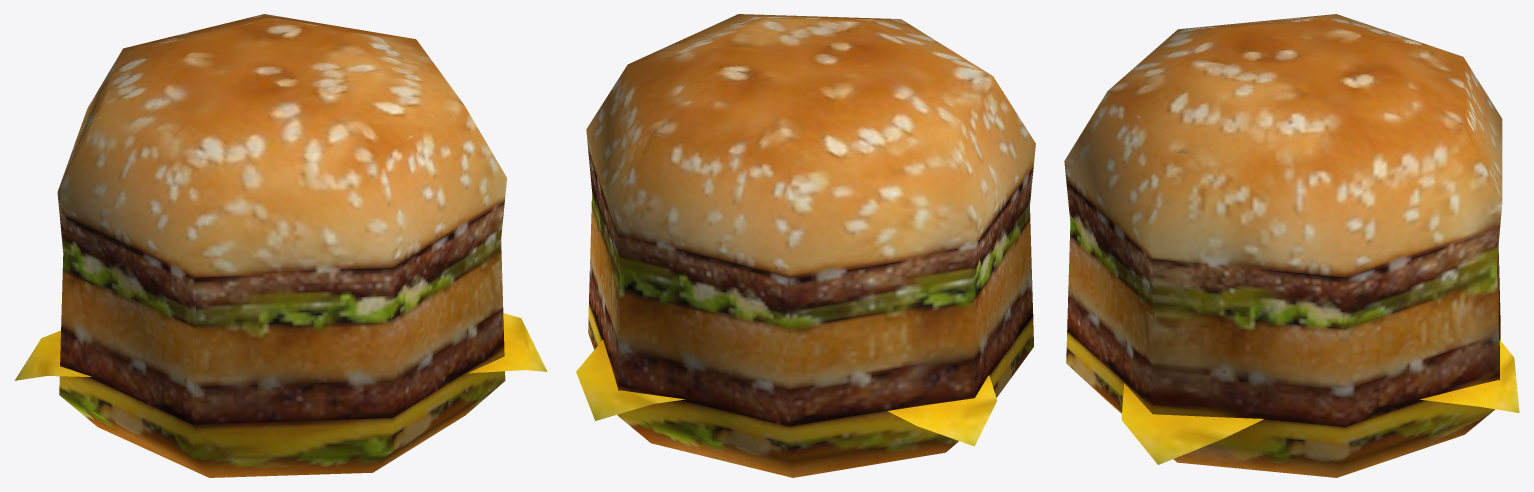
File: Hamburger.dae
The picture shows the model from 3 angles, left to right: view 1: azimuth 30°, elevation 25°; view 2: azimuth 150°, elevation 25°; view 3: azimuth 270°, elevation 25°; orthographic projection.
Visible parts, largest first — view 1: Hamburger; view 2: Hamburger; view 3: Hamburger.
Part boxes in pixels (left/top/right/bottom): Hamburger: left=14, top=14, right=547, bottom=477; Hamburger: left=576, top=14, right=1035, bottom=477; Hamburger: left=1064, top=14, right=1519, bottom=477.
Size of the model in its own units: 0.2704 by 0.2535 by 0.2078.
1 material, 1 textured.
